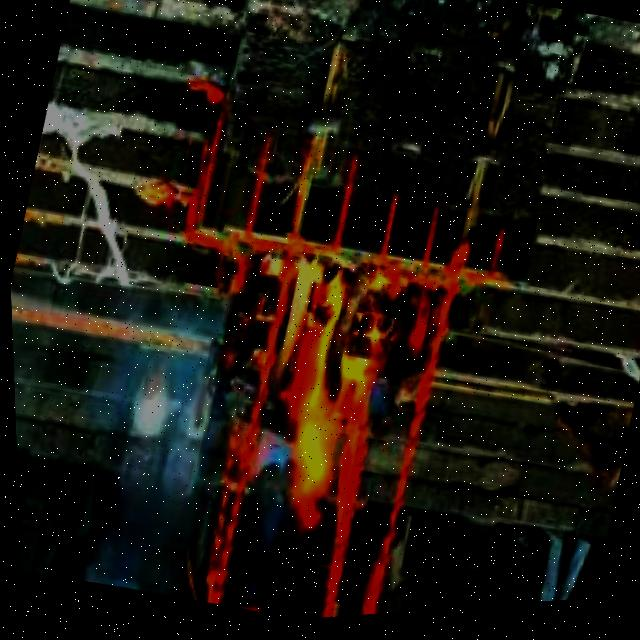Fire: (226, 250, 406, 539)
